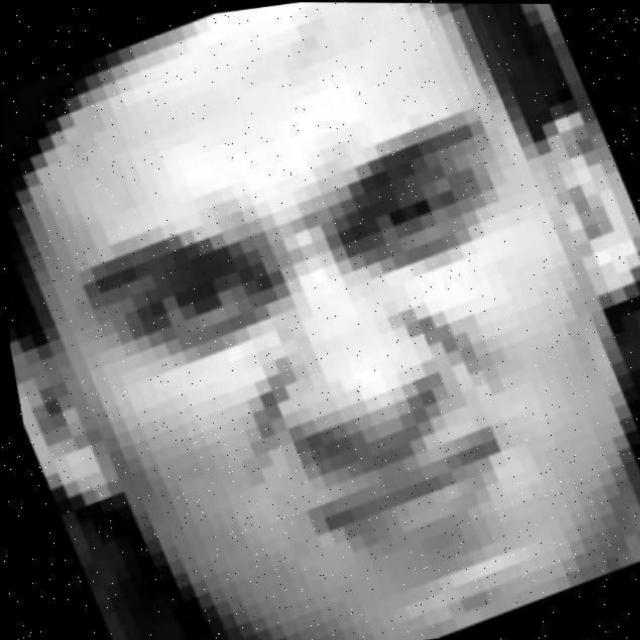Angry: (0, 15, 640, 625)
